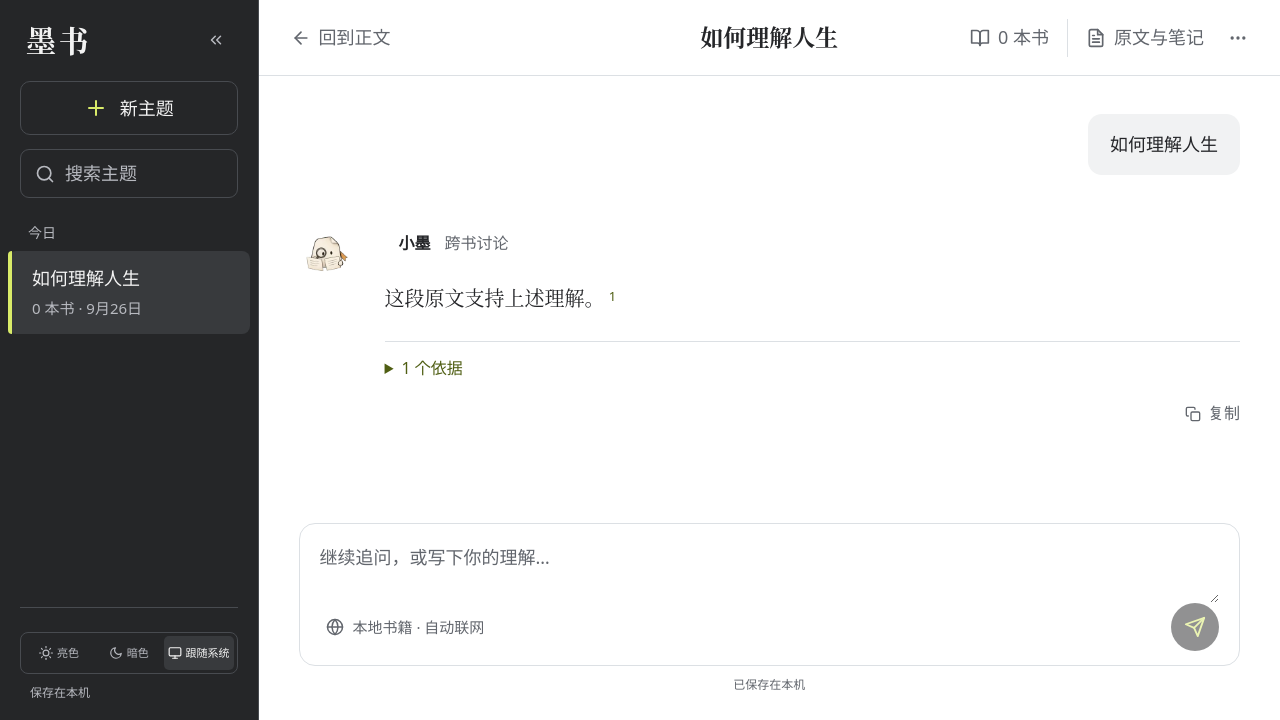
主题会话本地可靠性 › restores a pointer-clicked citation after Escape without prior focus
Expected: the text box labelled "继续追问" is shown, 320,542 -> 1219,603
Click the button named "查看引用 1": (612, 297) 606,289 -> 620,304
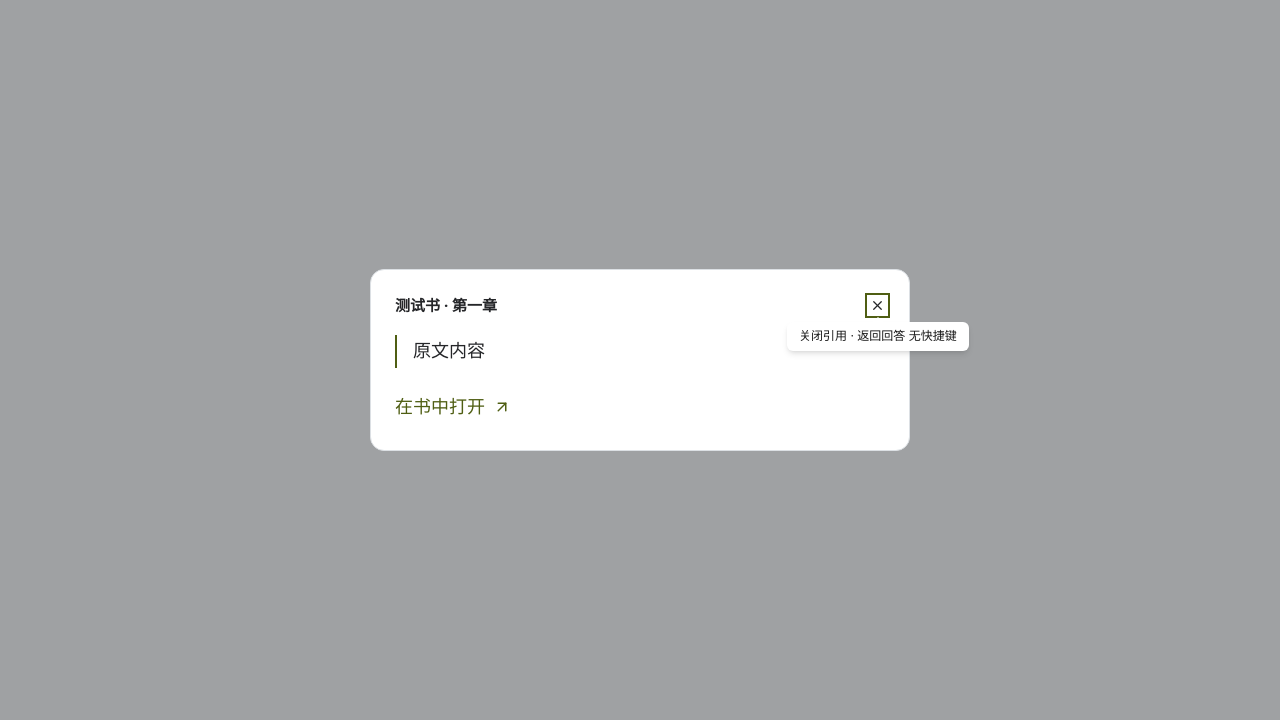
Press Escape in the button named "关闭引用", box 870,298 -> 885,313
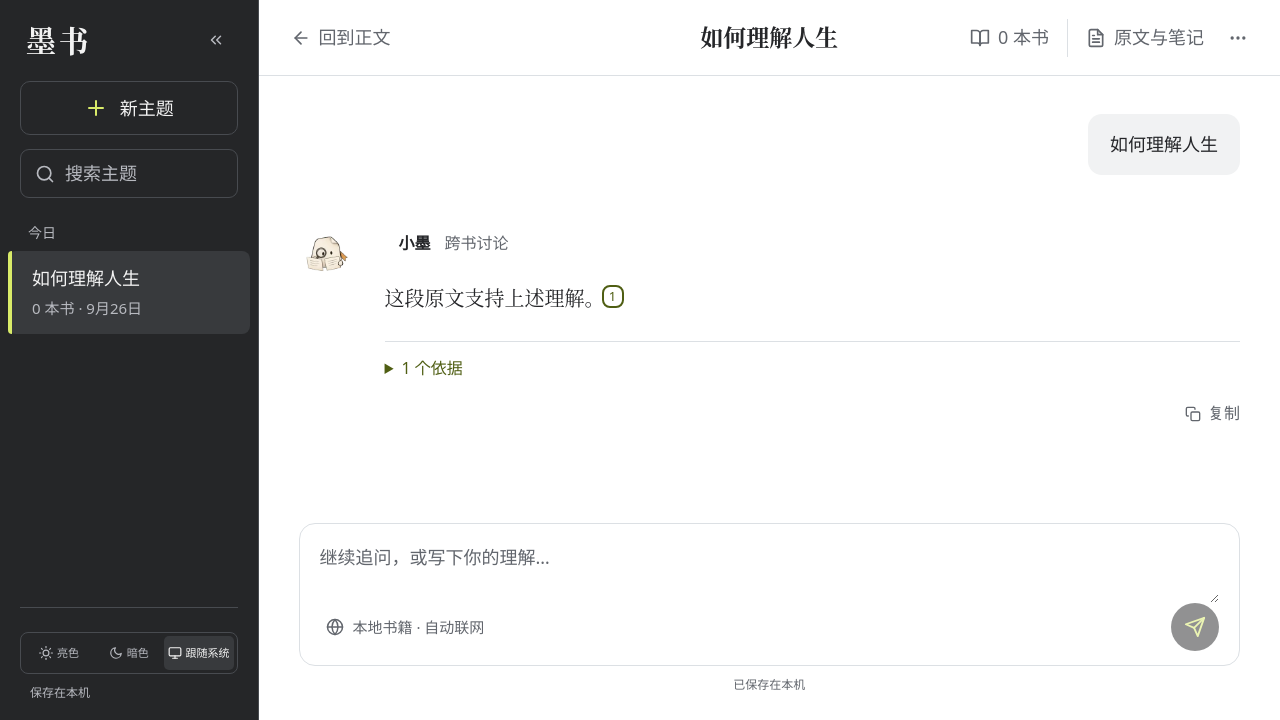
Expected: the dialog is gone
